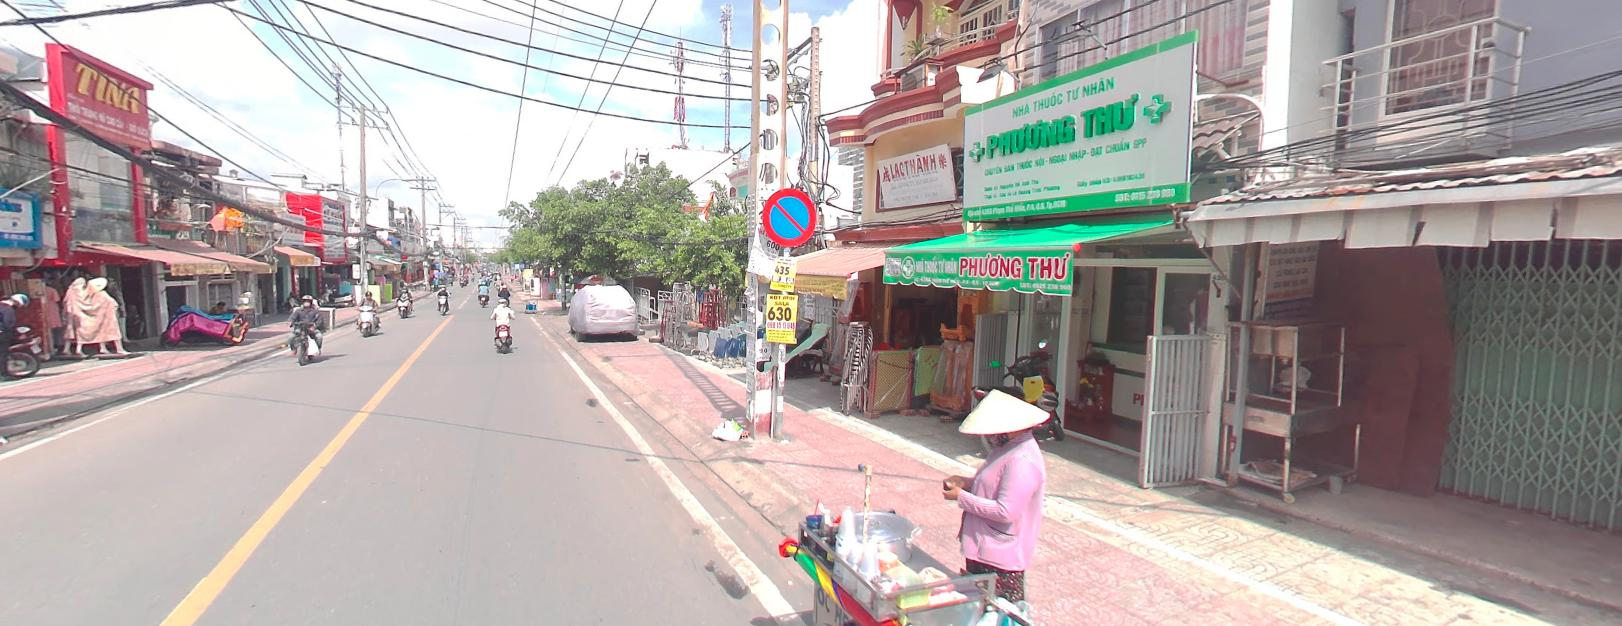Cam dung va do: (759, 184, 818, 250)
